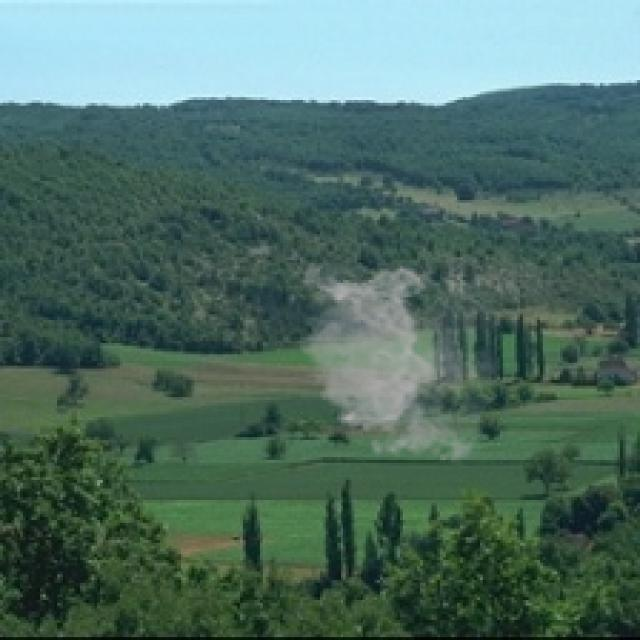smoke: (292, 263, 497, 468)
